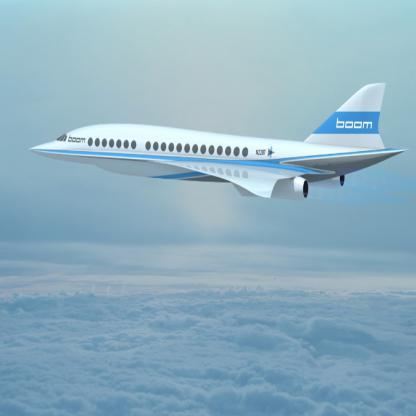CIV_Plane: (22, 80, 409, 202)
